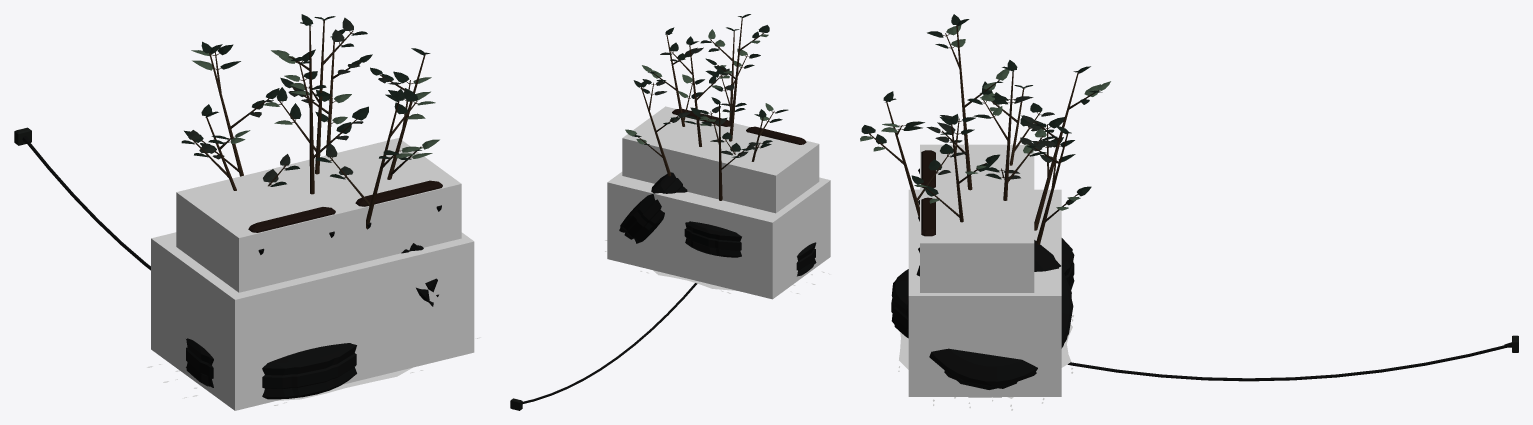
Rendered from CobblerYard.fbx.
3 renders of one model, left to right at view 1: azimuth 30°, elevation 25°; view 2: azimuth 150°, elevation 25°; view 3: azimuth 270°, elevation 25°, orthographic. The views are drawn at different scales.
Parts seen in each view (by area): view 1: COL_OldBusWheels, COL_SeatBench, Lilac__Paint, OldBusWheels__Paint, SeatBench__Paint, FeedCable__Paint, GravelApproach__Paint; view 2: COL_OldBusWheels, COL_SeatBench, Lilac__Paint, OldBusWheels__Paint, FeedCable__Paint, SeatBench__Paint, GravelApproach__Paint; view 3: COL_OldBusWheels, COL_SeatBench, Lilac__Paint, OldBusWheels__Paint, FeedCable__Paint, SeatBench__Paint.
Boxes of the visible parts, bbox=[...] form: COL_OldBusWheels: bbox=[151, 232, 474, 410]; COL_SeatBench: bbox=[176, 138, 461, 292]; Lilac__Paint: bbox=[181, 14, 439, 229]; OldBusWheels__Paint: bbox=[186, 243, 438, 399]; SeatBench__Paint: bbox=[248, 180, 442, 254]; FeedCable__Paint: bbox=[14, 127, 150, 270]; GravelApproach__Paint: bbox=[147, 337, 480, 405]; COL_OldBusWheels: bbox=[607, 172, 830, 299]; COL_SeatBench: bbox=[622, 106, 819, 213]; Lilac__Paint: bbox=[625, 14, 788, 200]; OldBusWheels__Paint: bbox=[619, 172, 816, 276]; FeedCable__Paint: bbox=[510, 283, 697, 410]; SeatBench__Paint: bbox=[672, 108, 806, 144]; GravelApproach__Paint: bbox=[605, 240, 830, 293]; COL_OldBusWheels: bbox=[908, 189, 1061, 396]; COL_SeatBench: bbox=[920, 144, 1034, 292]; Lilac__Paint: bbox=[860, 14, 1110, 244]; OldBusWheels__Paint: bbox=[891, 238, 1074, 389]; FeedCable__Paint: bbox=[1067, 335, 1518, 381]; SeatBench__Paint: bbox=[918, 150, 935, 252].
Bounding box in the file's own units: 1.78 × 2.21 × 3.75.
